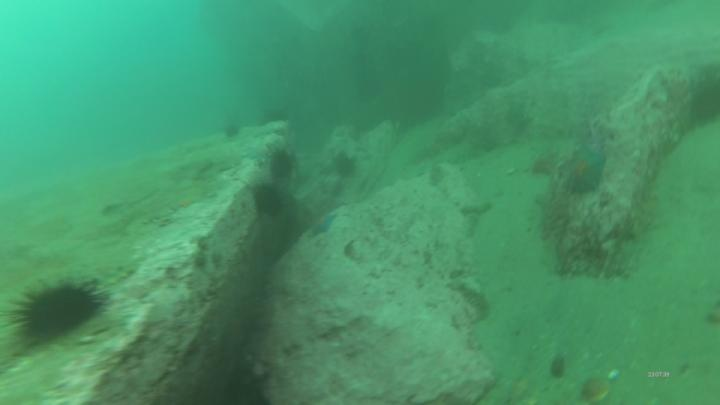echinus: (20, 282, 97, 339), (247, 185, 291, 223), (267, 150, 300, 182), (334, 152, 357, 180)
starfish: (561, 146, 610, 196), (309, 212, 339, 241)
